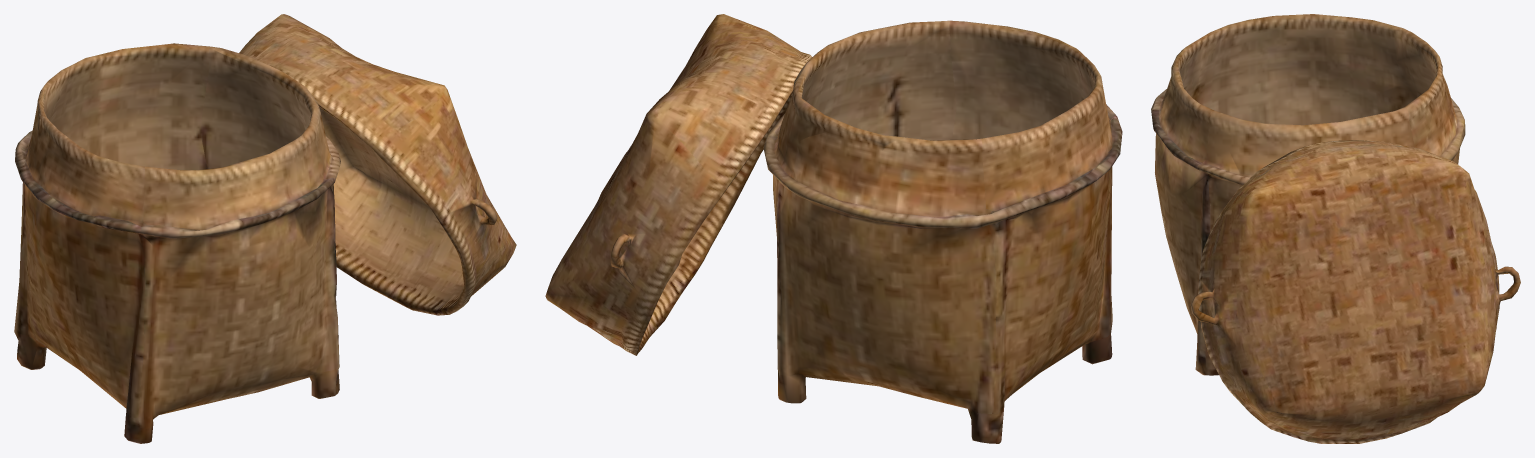
File: canasto.glb
3 views of the same model, side by side, from view 1: azimuth 30°, elevation 25°; view 2: azimuth 150°, elevation 25°; view 3: azimuth 270°, elevation 25° (orthographic). The views are drawn at different scales.
Visible parts, largest first — view 1: wicker_basket_02_base; view 2: wicker_basket_02_base; view 3: wicker_basket_02_base.
Part boxes in pixels (x1,y1,x2,y2): wicker_basket_02_base: [14, 14, 516, 443]; wicker_basket_02_base: [545, 14, 1122, 443]; wicker_basket_02_base: [1151, 14, 1520, 443].
Size of the model in its own units: 0.3469 by 0.2004 by 0.2541.
1 material, 1 textured.
